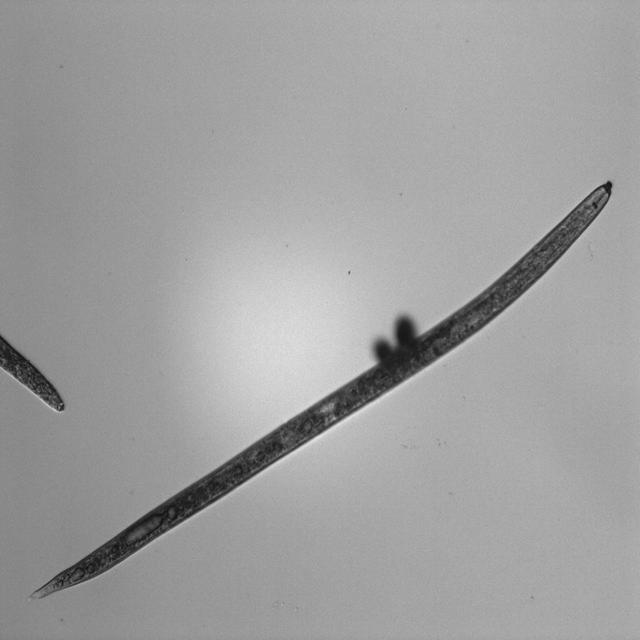Radopholus: (14, 178, 614, 611)
